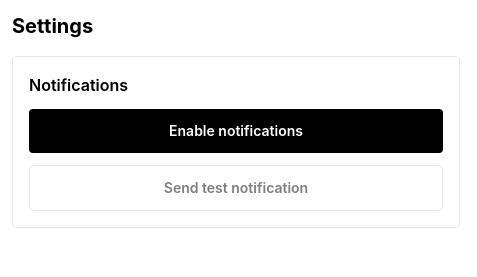
Scenario: Settings notifications › shows errors in the status line
Click the button "Enable notifications" at (236, 131), box [29, 109, 443, 153]
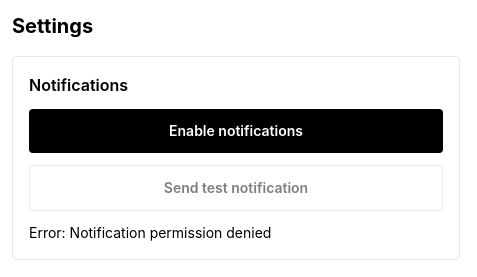
Result: the message reads "Error: Notification permission denied" at [29, 224, 271, 241]
